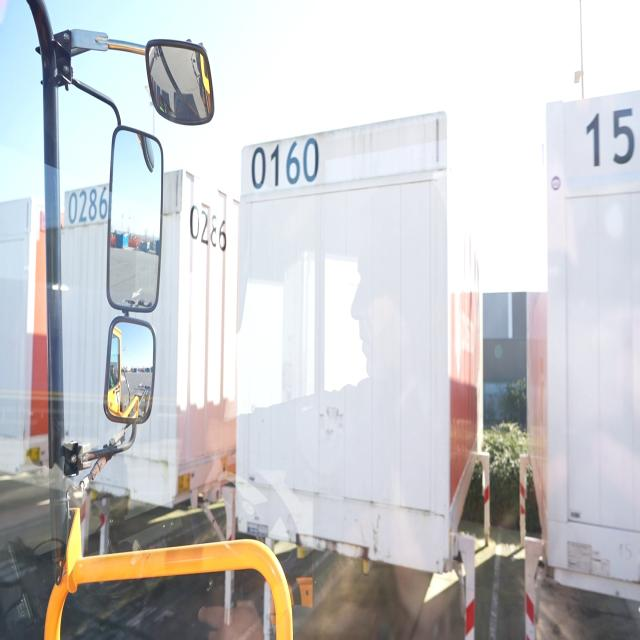Code: (248, 136, 329, 196), (188, 196, 232, 256)
